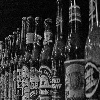beer: (40, 17, 57, 100)
